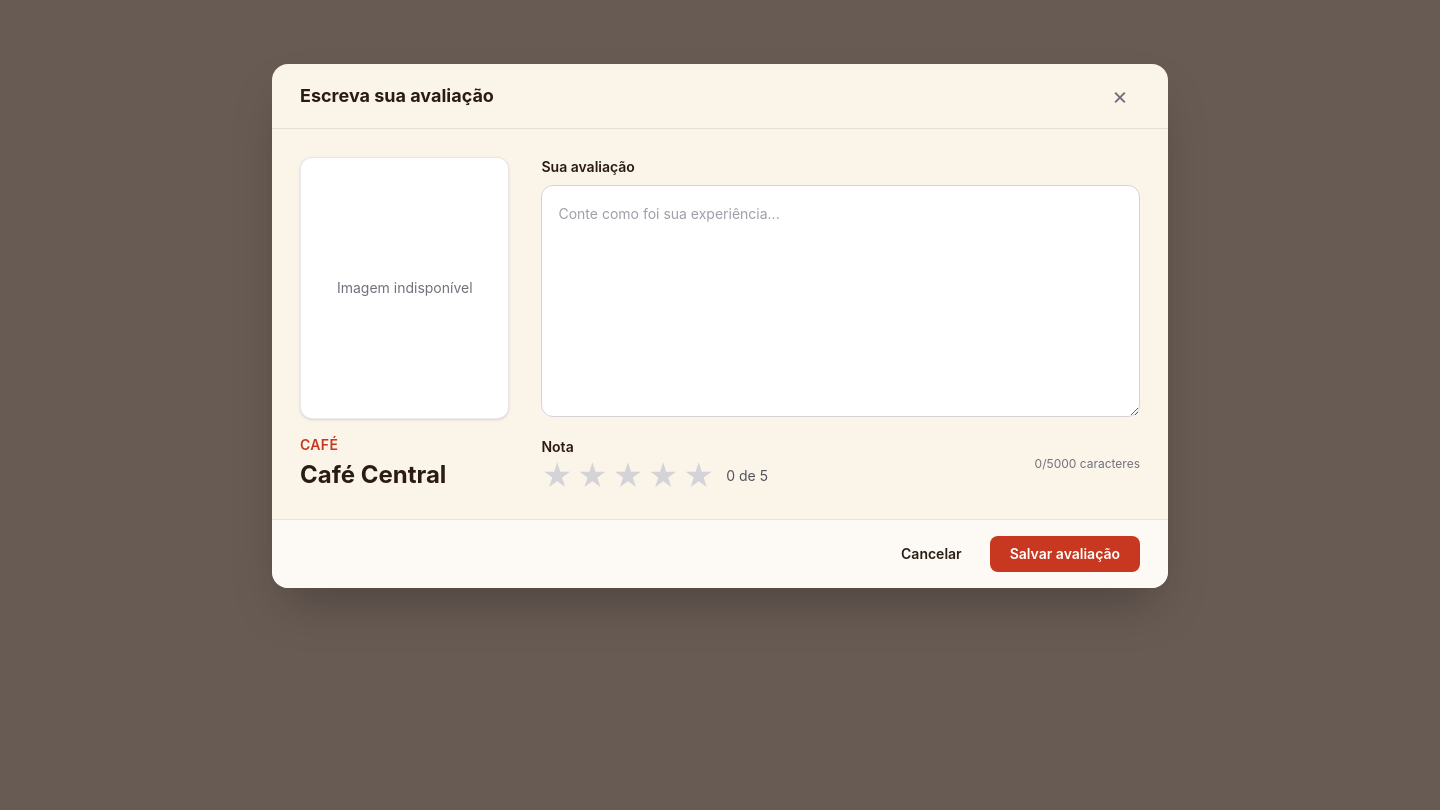
Test: edição e envio de avaliações › mostra erro quando o backend recusa a avaliação
Step 1. Click the button named "3 estrelas" → point(628, 476), box [612, 461, 644, 491]
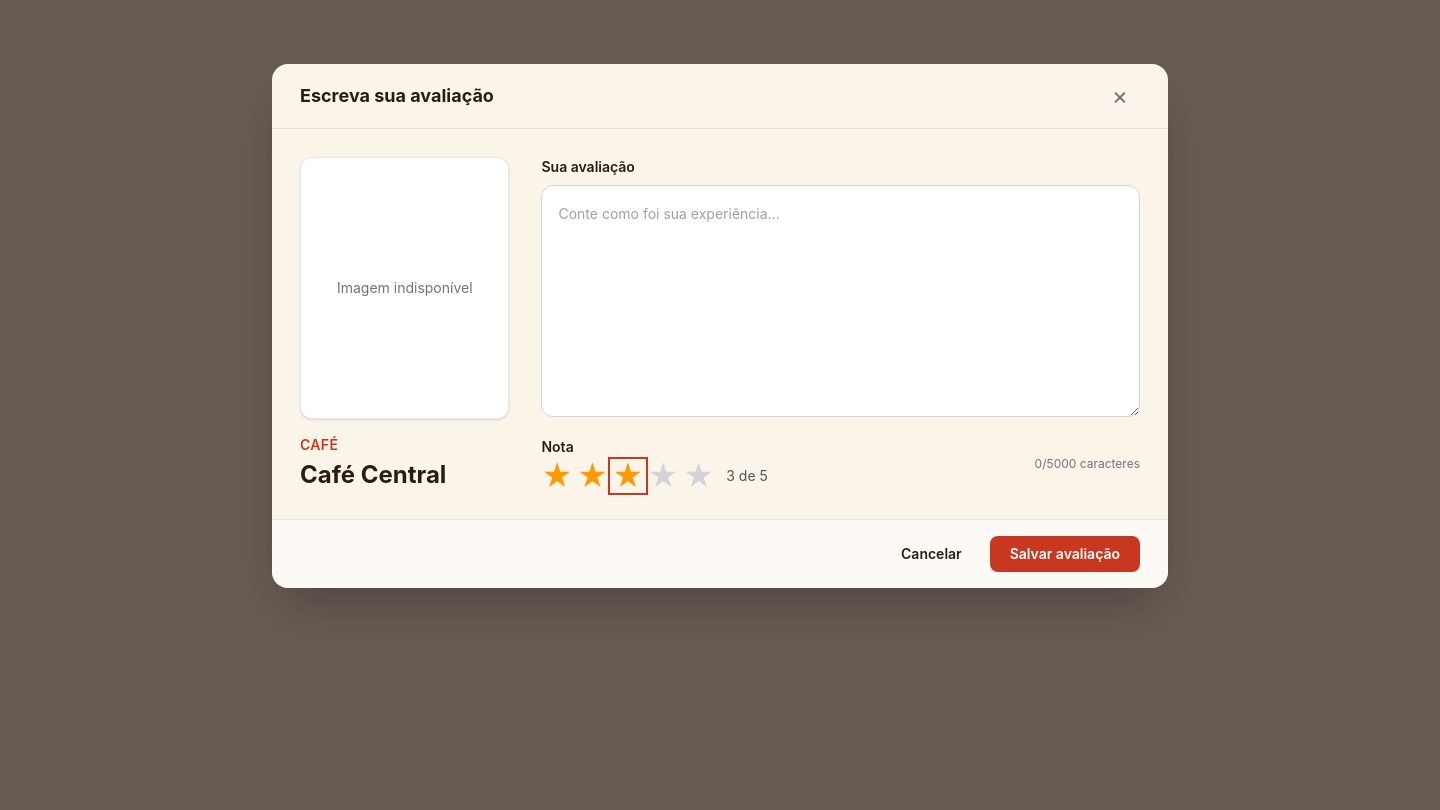
Step 2. Click the button "Salvar avaliação" → point(1065, 554), box [990, 536, 1140, 572]
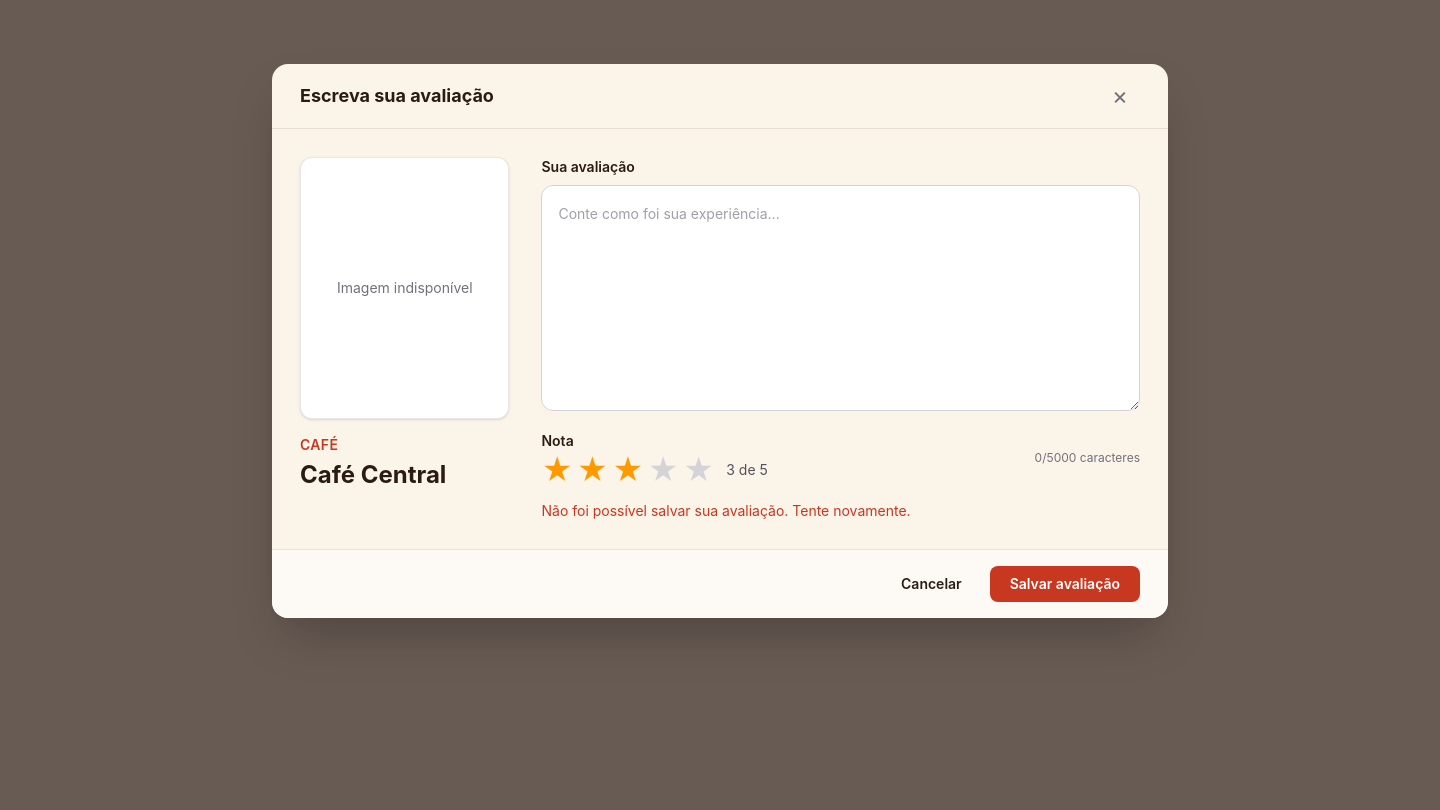
Expected: the message shows "Não foi possível salvar sua avaliação.", [542, 502, 911, 519]
